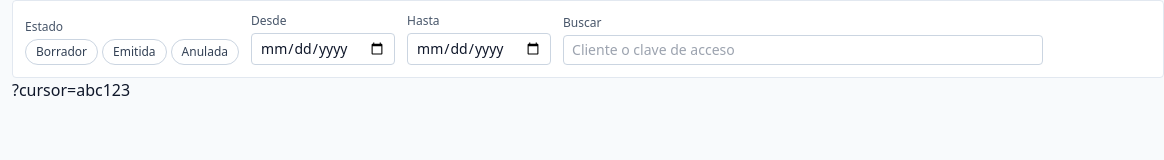
Test: <FiltersBar /> URL state › changing estado clears an existing cursor
Click the checkbox with test id "filter-estado-BORRADOR" at (62, 52), box [25, 39, 98, 65]
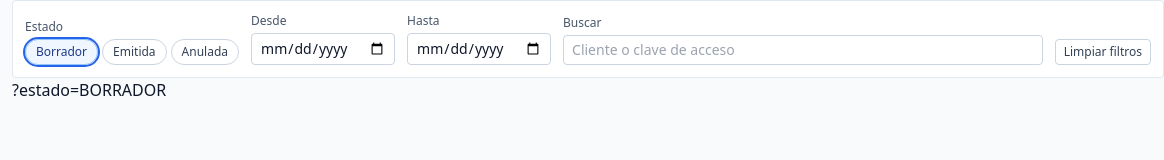
expect the text with test id "loc" shows "estado=BORRADOR": met, box [12, 79, 166, 101]
expect the text with test id "loc" no longer shows "cursor=abc123": met
